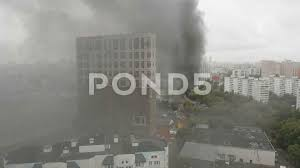smoke: (1, 1, 74, 140)
